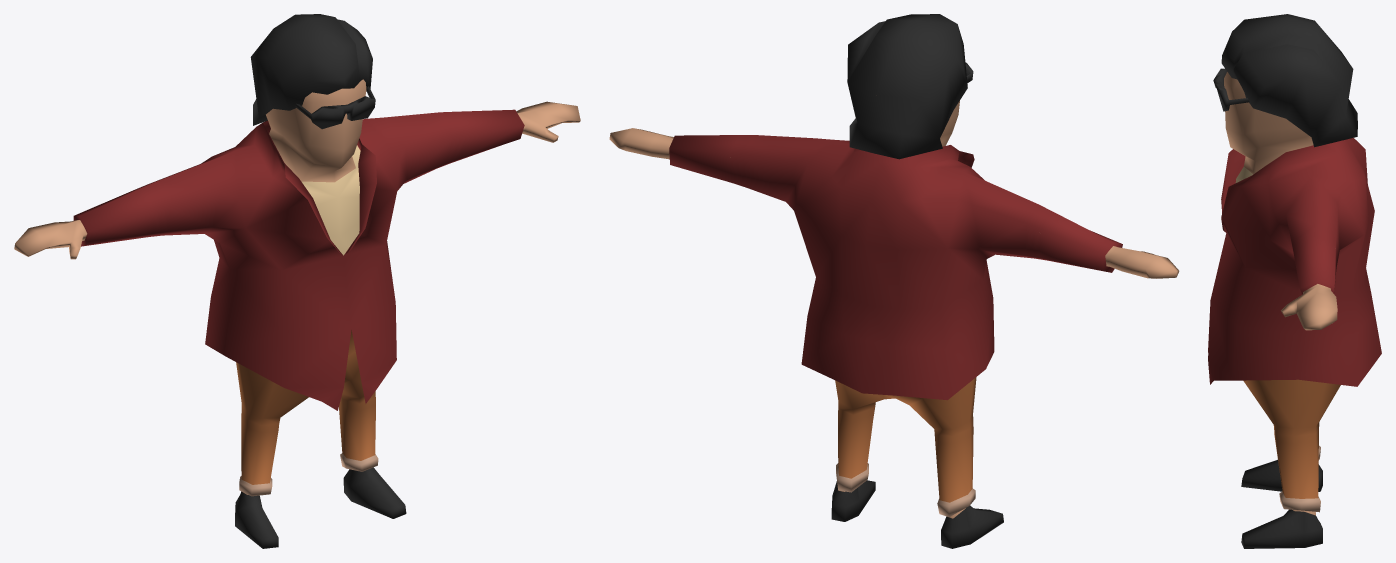
The model's file is Male_2sm.FBX.
The picture shows the model from 3 angles, left to right: view 1: azimuth 30°, elevation 25°; view 2: azimuth 150°, elevation 25°; view 3: azimuth 270°, elevation 25°; orthographic projection.
Parts seen in each view (by area): view 1: shirt, Cylinder001, Hair, pants, Cylinder002; view 2: shirt, Hair, pants, Cylinder001; view 3: shirt, Hair, Cylinder001, pants, Cylinder002.
Boxes of the visible parts, x1=… form: shirt: x1=73, y1=109, x2=524, y2=410; Cylinder001: x1=14, y1=79, x2=580, y2=548; Hair: x1=250, y1=14, x2=372, y2=125; pants: x1=236, y1=330, x2=378, y2=496; Cylinder002: x1=295, y1=86, x2=375, y2=129; shirt: x1=669, y1=135, x2=1122, y2=400; Hair: x1=847, y1=14, x2=967, y2=159; pants: x1=835, y1=377, x2=976, y2=516; Cylinder001: x1=609, y1=101, x2=1179, y2=548; shirt: x1=1208, y1=138, x2=1381, y2=386; Hair: x1=1221, y1=14, x2=1357, y2=147; Cylinder001: x1=1224, y1=72, x2=1337, y2=548; pants: x1=1243, y1=379, x2=1340, y2=512; Cylinder002: x1=1213, y1=68, x2=1249, y2=111.
Bounding box in the file's own units: 150 × 127 × 40.39.
